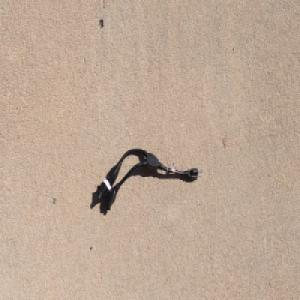Wire: (95, 147, 202, 211)
